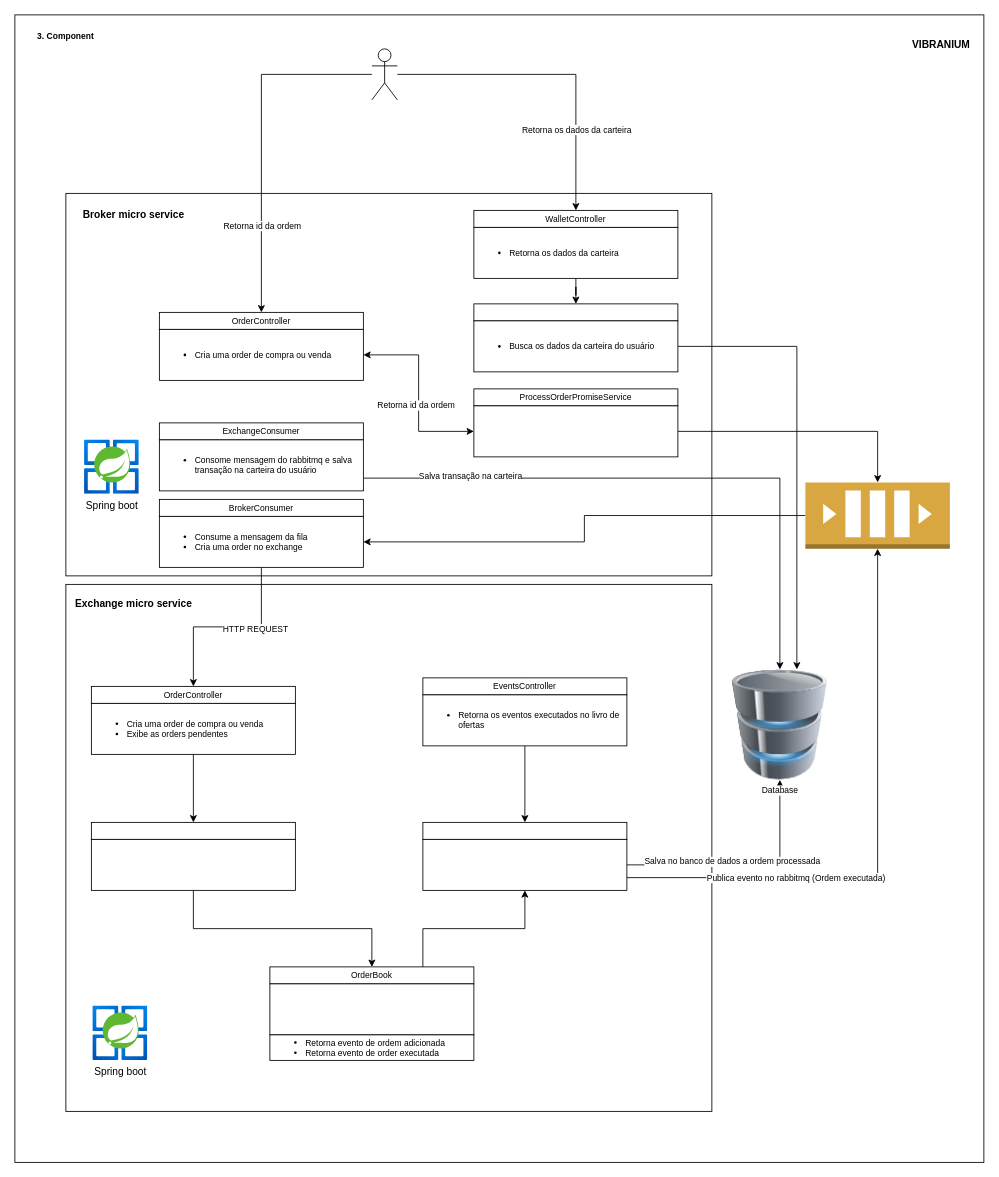
Image size: 999x1177. Some labels were removed from this diagram. Here are the shapes that lost their labels. From the top down, the centre of each, then its label:
pixel 384 74: Actor
pixel 575 312: GetWalletPortServiceImpl
pixel 575 431: Publica uma mensagem na fila do rabbitmq
pixel 877 515: RabbitMQ
pixel 193 830: CreateOrderPortServiceImpl
pixel 524 830: OrderBookListenerImpl
pixel 193 864: Cria uma identificador da transação Enviar Ordem para o livro de ofertas
pixel 524 864: Ordem criada Order executada
pixel 371 1009: Adiciona order no livro de ofertas
